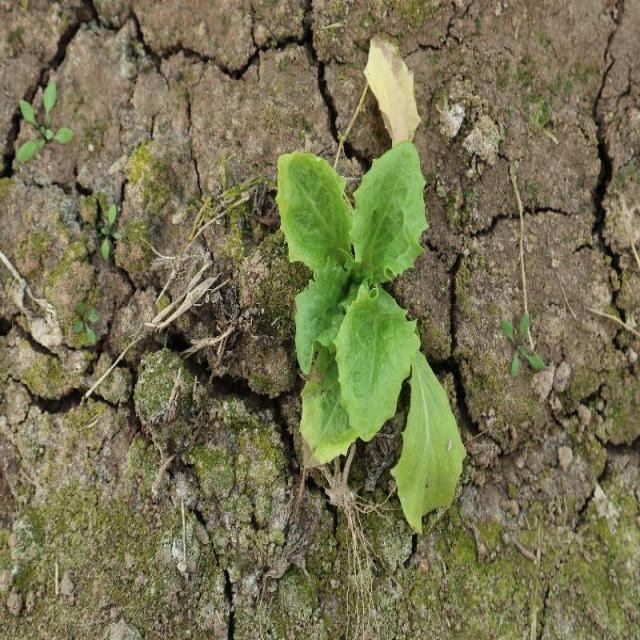crop: (276, 140, 466, 539)
